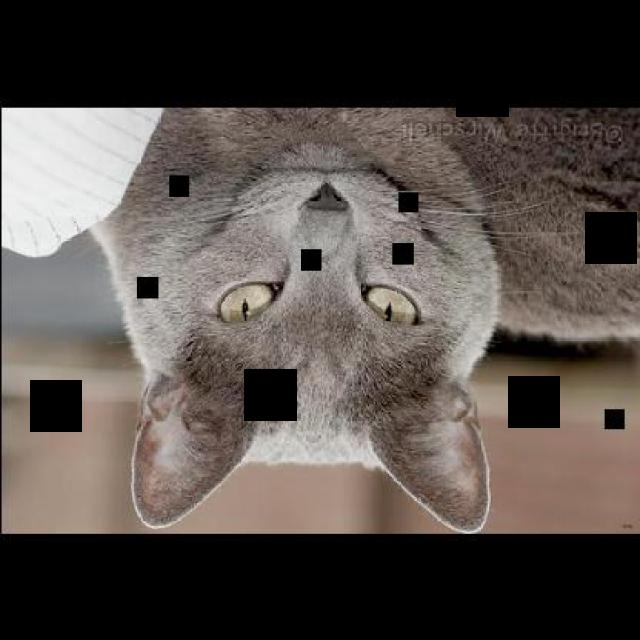unauthorized: (84, 105, 638, 532)
